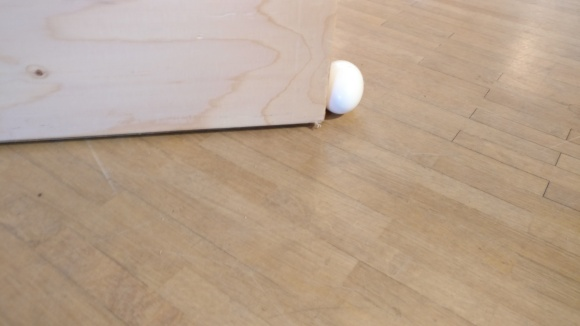egg: (326, 59, 364, 115)
